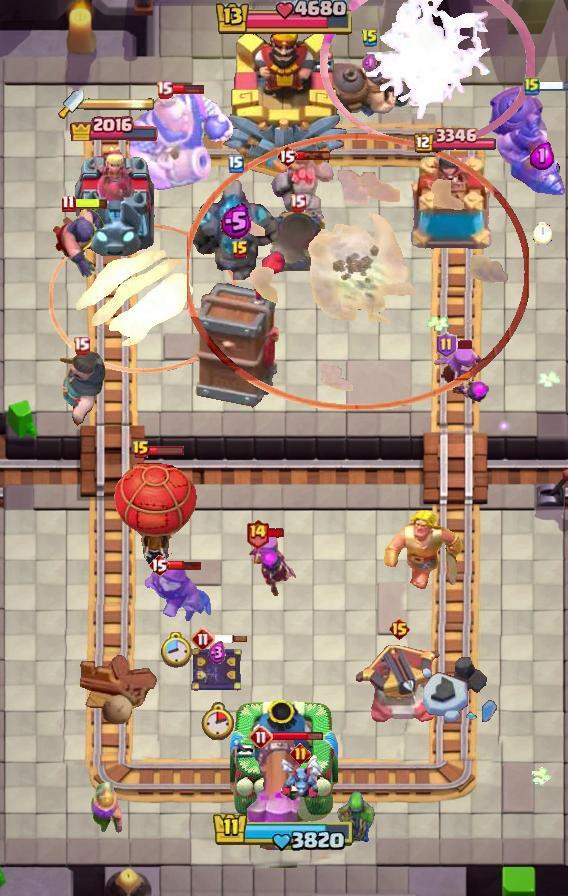bar: (70, 142, 158, 256)
barbarian-evolution: (320, 0, 535, 148)
bomb-tower: (89, 781, 123, 835)
cannon-cart: (112, 450, 198, 568)
cannoneer-tower: (191, 177, 281, 281)
clock: (212, 811, 356, 853), (213, 0, 355, 38)
dart-goblin: (194, 250, 285, 408)
electro-spirit: (220, 203, 252, 241), (530, 142, 554, 170), (208, 641, 226, 665), (362, 53, 378, 73)
elixir: (201, 702, 235, 740), (160, 631, 192, 668), (532, 223, 551, 246)
emote: (272, 731, 325, 742), (73, 198, 109, 211), (171, 83, 205, 95), (148, 444, 185, 455), (296, 150, 332, 161), (167, 560, 203, 571), (540, 79, 568, 92), (212, 634, 248, 644), (266, 527, 285, 539), (454, 339, 474, 350)
fireball: (139, 562, 213, 624)
furnace: (245, 736, 307, 850)
giant-skeleton: (126, 88, 233, 190)
giant-snowball: (336, 789, 376, 847)
goblin-hut: (381, 509, 465, 591)
ice-spirit-evolution-symbol: (190, 644, 244, 694)
ice-wizard: (50, 223, 238, 372)
king-tower: (219, 23, 349, 181), (230, 698, 338, 826)
king-tower-bar: (84, 97, 156, 111)
lava-pup: (355, 644, 443, 726)
monk: (51, 205, 107, 279)
musketeer: (265, 209, 329, 275)
queen-tower: (407, 156, 499, 256)
rascal-girl: (428, 344, 492, 406), (247, 532, 299, 596)
royal-delivery: (278, 754, 322, 800)
royal-ghost: (187, 134, 529, 410)
royal-hog: (56, 348, 106, 426)
selected: (68, 113, 159, 141), (412, 128, 497, 155)
text: (245, 518, 270, 549), (191, 627, 215, 651), (249, 725, 273, 749), (388, 617, 411, 641), (435, 332, 456, 358), (276, 144, 298, 168), (148, 553, 170, 577), (289, 743, 311, 765), (361, 28, 379, 48), (231, 240, 249, 260), (132, 440, 150, 460), (289, 192, 307, 211), (73, 337, 91, 356), (155, 80, 172, 99), (524, 76, 540, 96), (228, 155, 244, 173), (60, 195, 75, 214)
valkyrie-evolution: (271, 157, 337, 223)
wizard: (486, 84, 568, 198), (314, 49, 426, 119)
